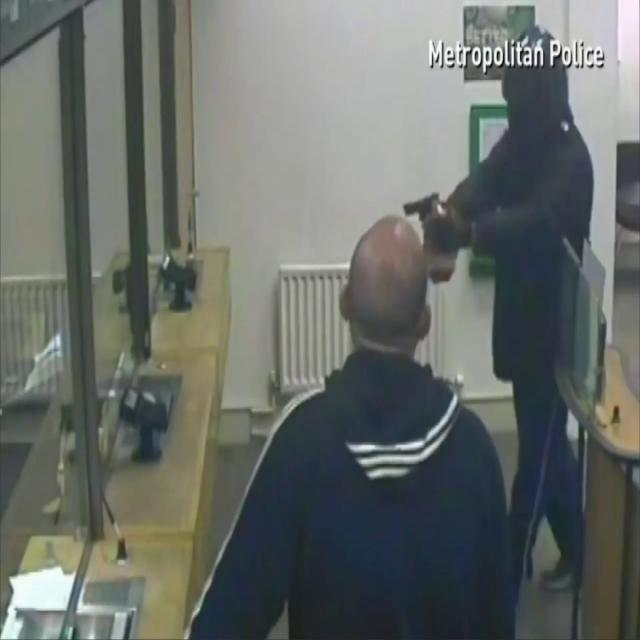weapon: (400, 190, 448, 222)
